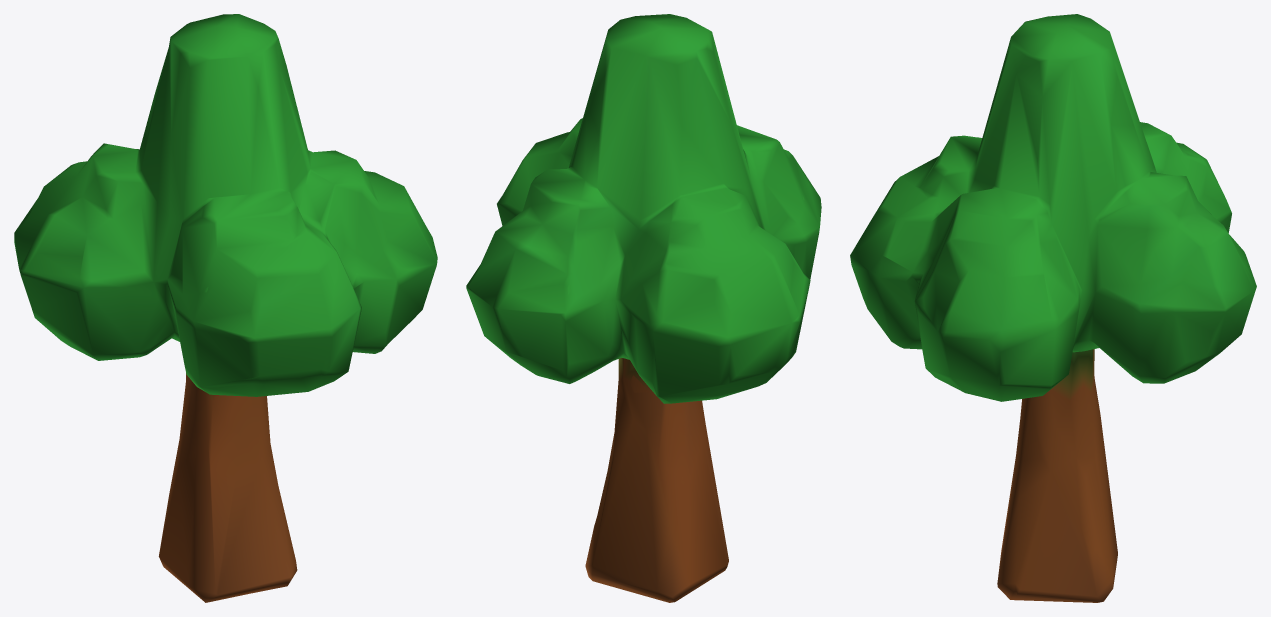
File: gen3d-joshua-tree-lod1.glb
3 views of the same model, side by side, from view 1: azimuth 30°, elevation 25°; view 2: azimuth 150°, elevation 25°; view 3: azimuth 270°, elevation 25° (orthographic).
Visible parts, largest first — view 1: part_0; view 2: part_0; view 3: part_0.
Boxes of the visible parts, left/top/right/bottom form: part_0: left=14, top=14, right=437, bottom=602; part_0: left=466, top=14, right=821, bottom=602; part_0: left=850, top=14, right=1256, bottom=602.
Bounding box in the file's own units: 0.6492 × 0.997 × 0.6534.
